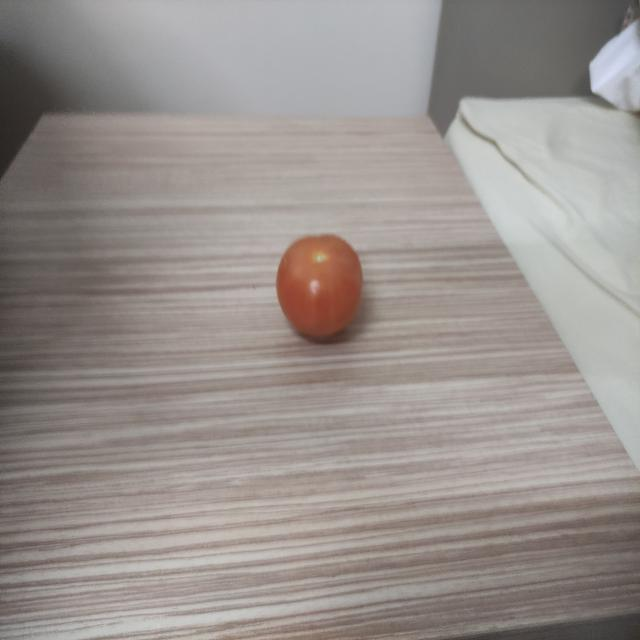sari: (268, 221, 369, 350)
